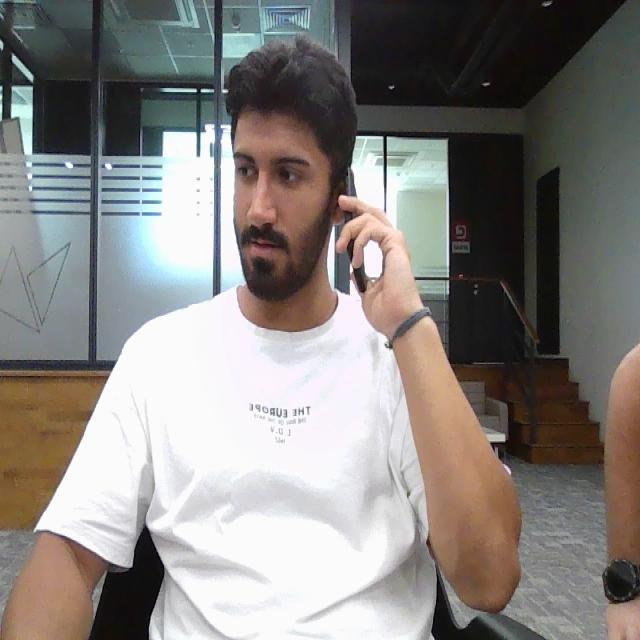phone: (346, 170, 364, 290)
